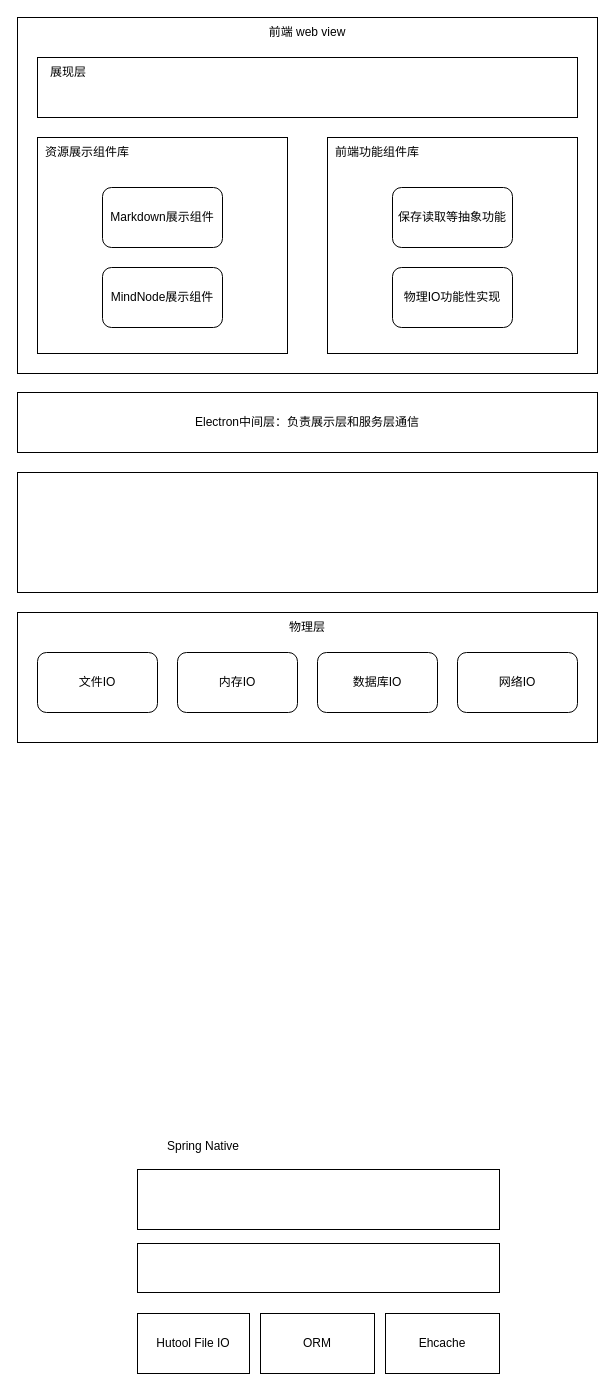
The diagram is 615 pixels wide and 1391 high, and some of its shapes have lost their labels. The shapes that lost their labels are listed below. From the top down, each one's centre as x and y in pixels, then its label:
the point at 307,532: 服务层（语言服务器） 负责转换数据源到抽象资源结构中
the point at 318,1199: Spring Web Container
the point at 318,1267: Service
